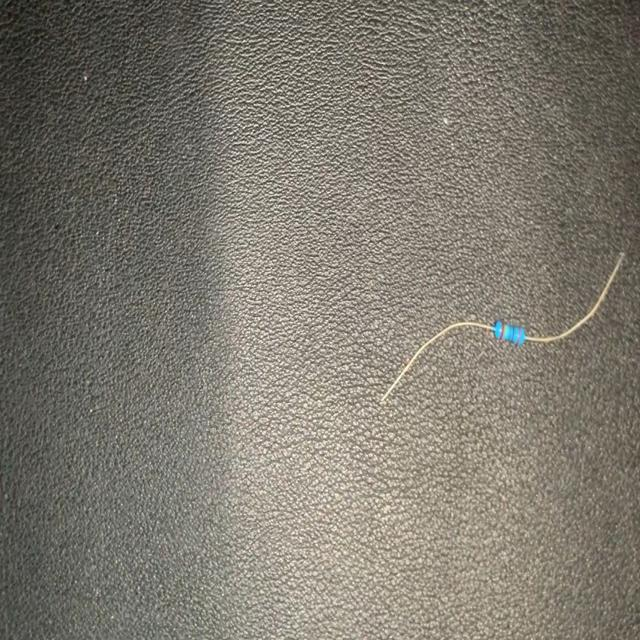resistor: (386, 256, 624, 404)
